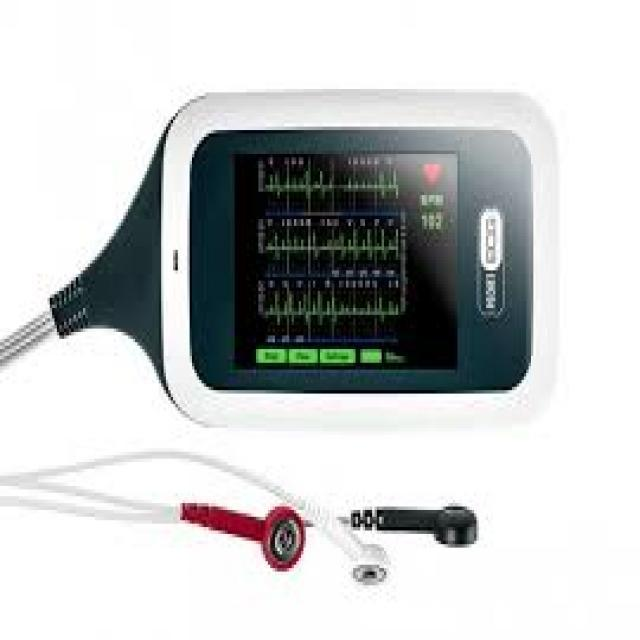cardiac_monitor: (170, 96, 560, 452)
